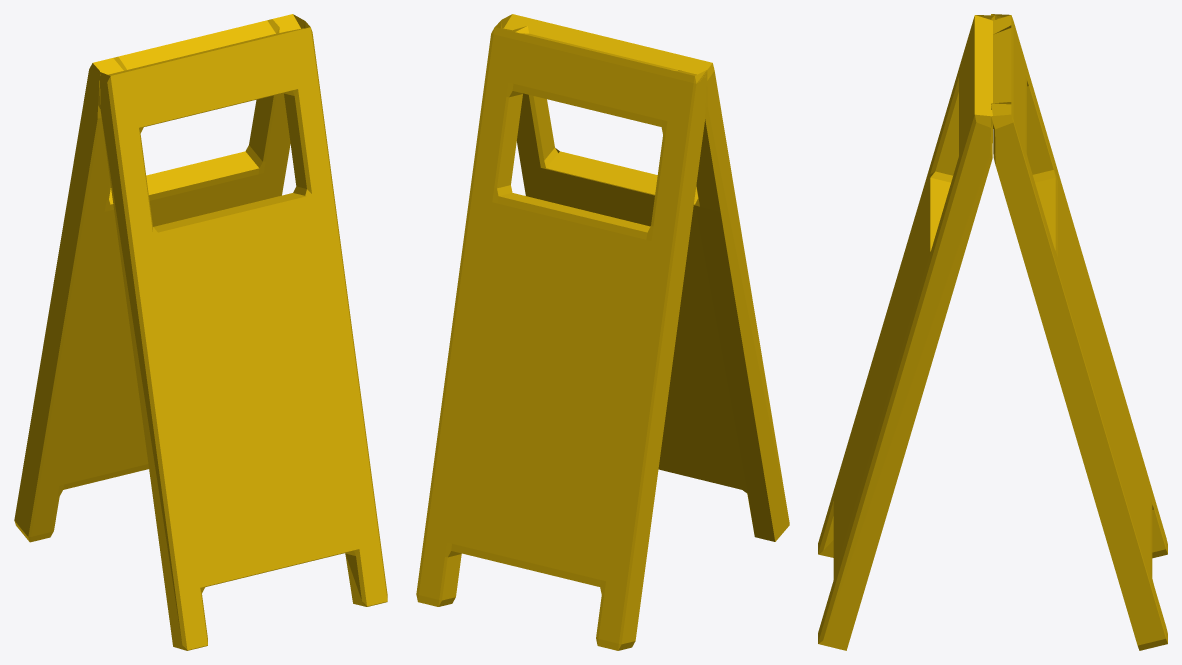
The model's file is wet_floor_sign.fbx.
3 renders of one model, left to right at view 1: azimuth 30°, elevation 25°; view 2: azimuth 150°, elevation 25°; view 3: azimuth 270°, elevation 25°, orthographic. The views are drawn at different scales.
Visible parts, largest first — view 1: WetFloorWarning; view 2: WetFloorWarning; view 3: WetFloorWarning.
Boxes of the visible parts, x1=… form: WetFloorWarning: x1=14, y1=14, x2=387, y2=650; WetFloorWarning: x1=416, y1=14, x2=789, y2=650; WetFloorWarning: x1=818, y1=14, x2=1167, y2=650.
Bounding box in the file's own units: 80 × 196 × 116.
